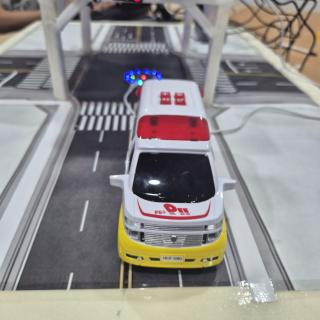Ambulance: (110, 79, 236, 268)
